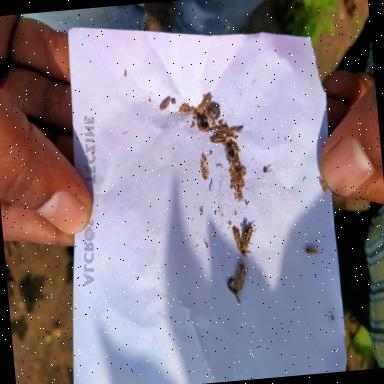pbw: (231, 225, 259, 262), (230, 264, 248, 300), (300, 242, 320, 260), (197, 94, 213, 113), (213, 124, 230, 136), (158, 98, 173, 111), (210, 134, 226, 146), (320, 179, 328, 195)
